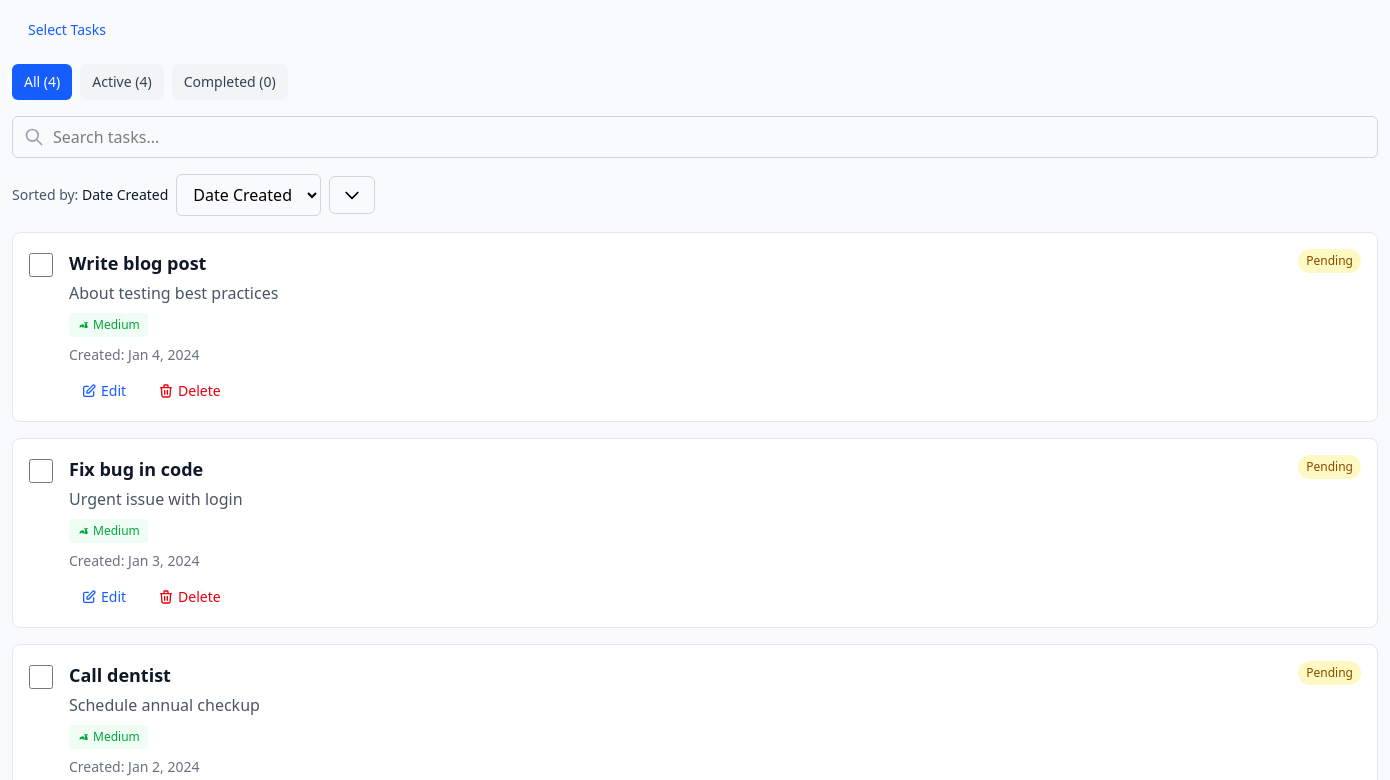
Scenario: User Story 2.4: Search Tasks UI › Search Functionality › should filter tasks by title in real-time
Type "groceries" into the search field at [695, 137], box [12,116,1378,158]
Wait 300 ms
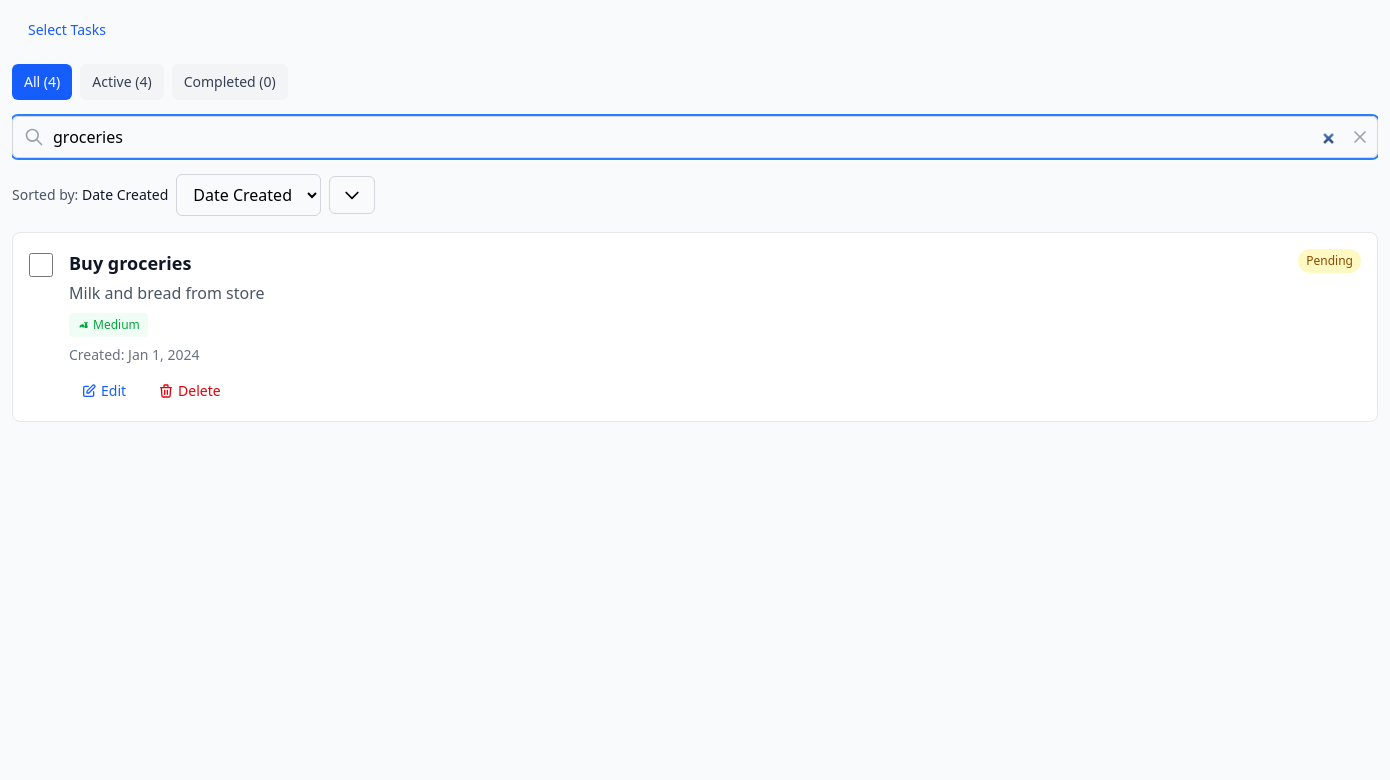
Expected: the heading "Buy groceries" is shown, [69,249,191,277]
Expected: the heading "Call dentist" is gone
Expected: the heading "Fix bug in code" is gone
